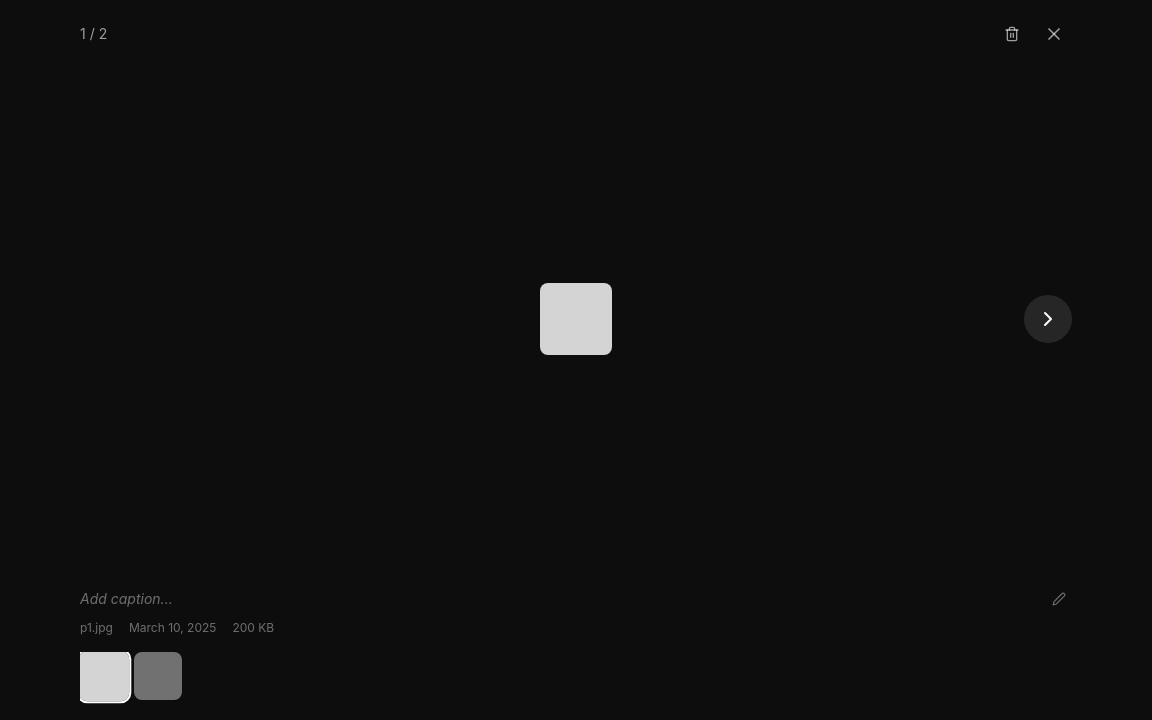
Test: PhotoLightbox › FE-COMP-PHOTOLIGHTBOX-003: next button advances to second photo
Click the 3rd button: {"x": 1048, "y": 319} [1024,295,1072,343]
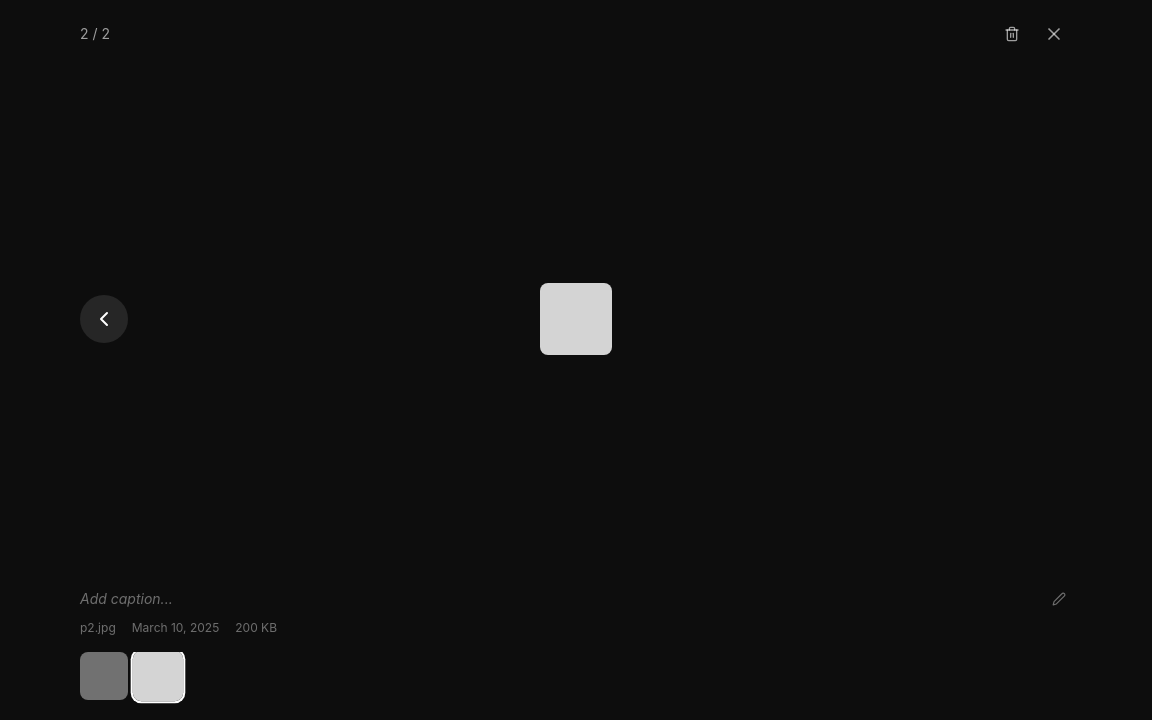
Expected: the text "2 / 2" is shown, [80,24,110,44]
